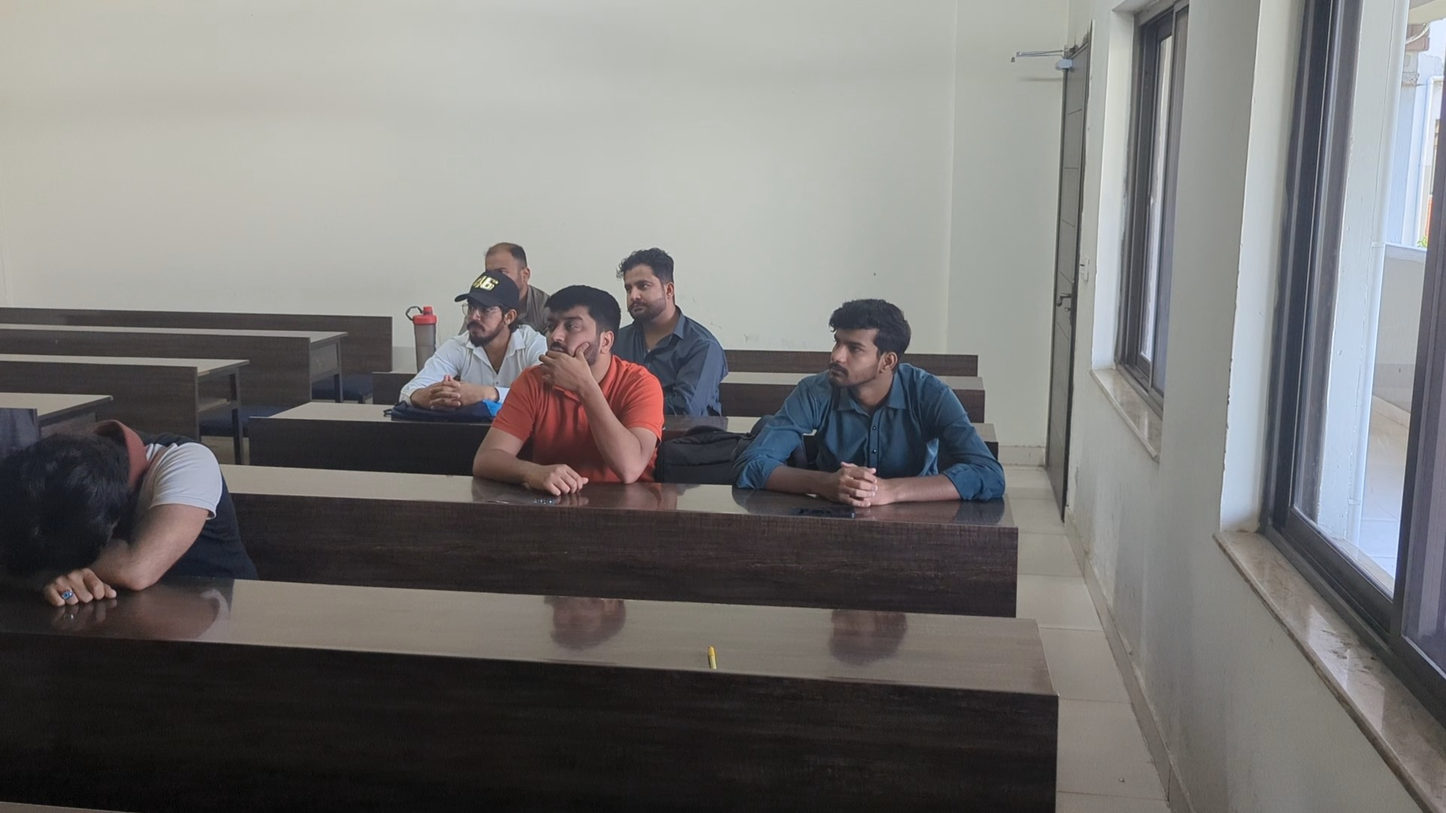look_forward: (823, 290, 950, 505), (526, 283, 652, 454), (613, 248, 718, 385), (440, 279, 539, 416), (469, 233, 578, 287)
sleep: (5, 369, 228, 595)
